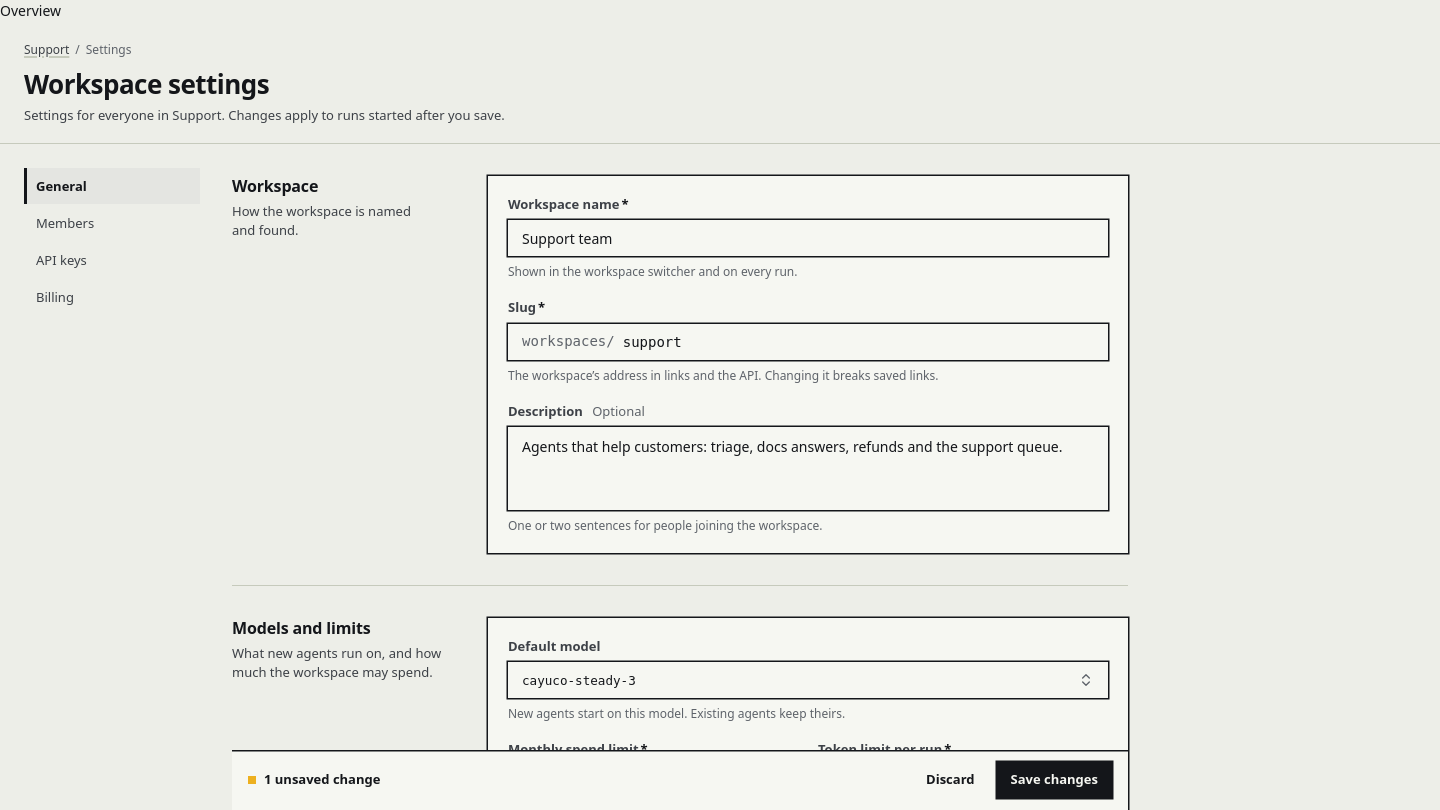
Scenario: SettingsPage › asks before following a link away while dirty; Keep editing keeps the changes
This screenshot has width=1440, height=810.
Click the link "Members" at coordinates (65, 223), box x1=36 y1=214 x2=94 y2=232
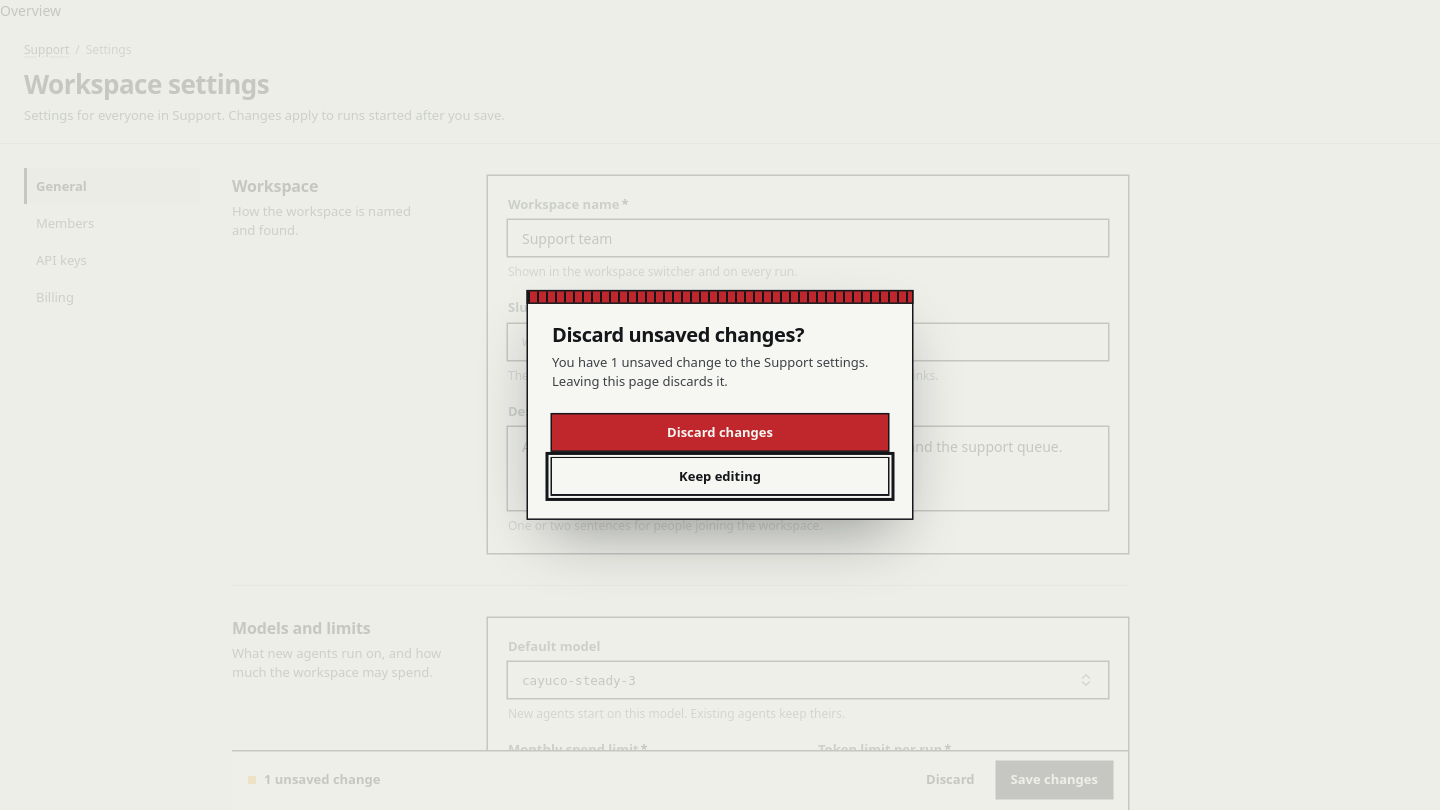
Expected: the dialog "Discard unsaved changes?" shows "You have 1 unsaved change to the Support settings.", x1=552 y1=353 x2=868 y2=390
Press Enter
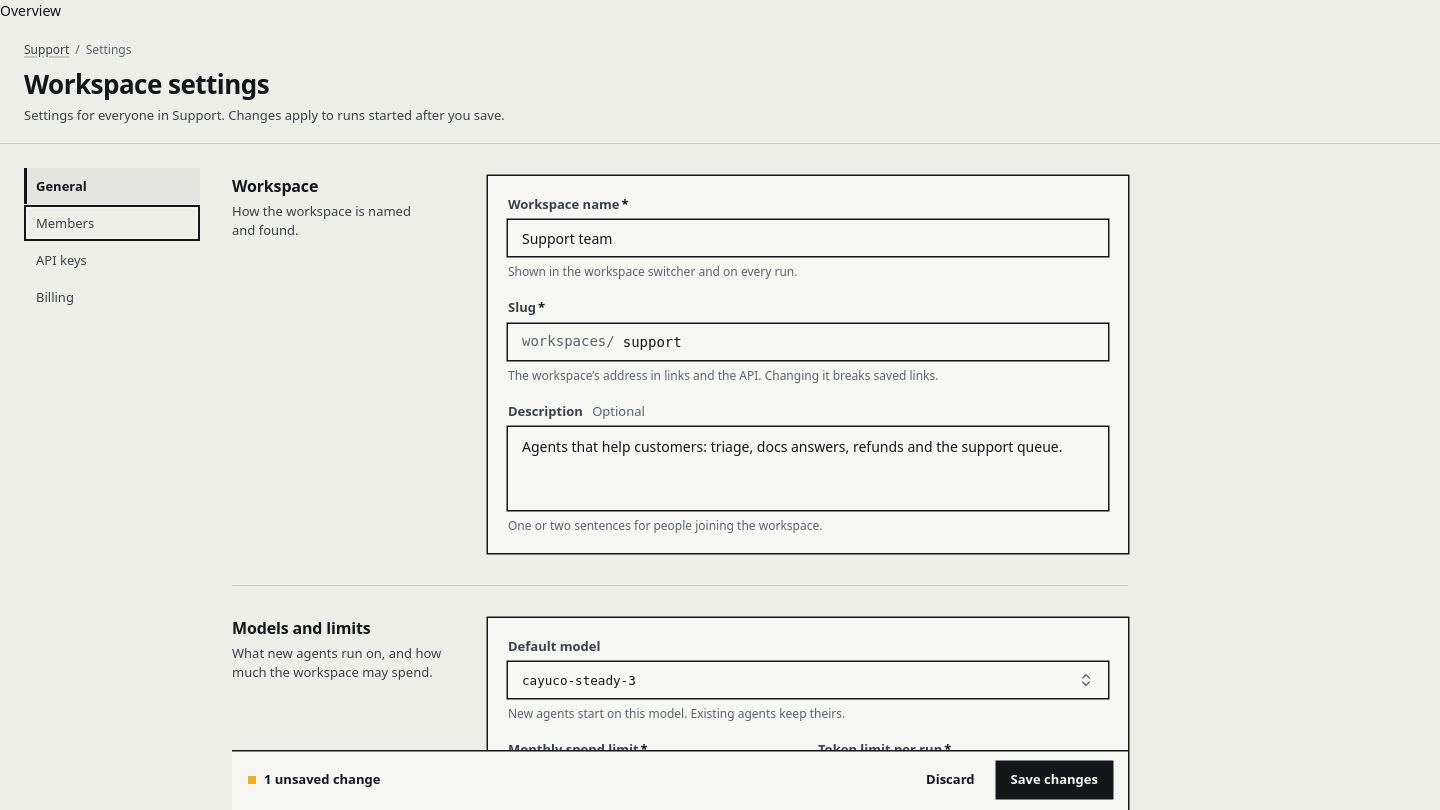
Expected: the field labelled "Workspace name" holds "Support team", x1=522 y1=220 x2=1094 y2=256
Expected: the dialog is gone
